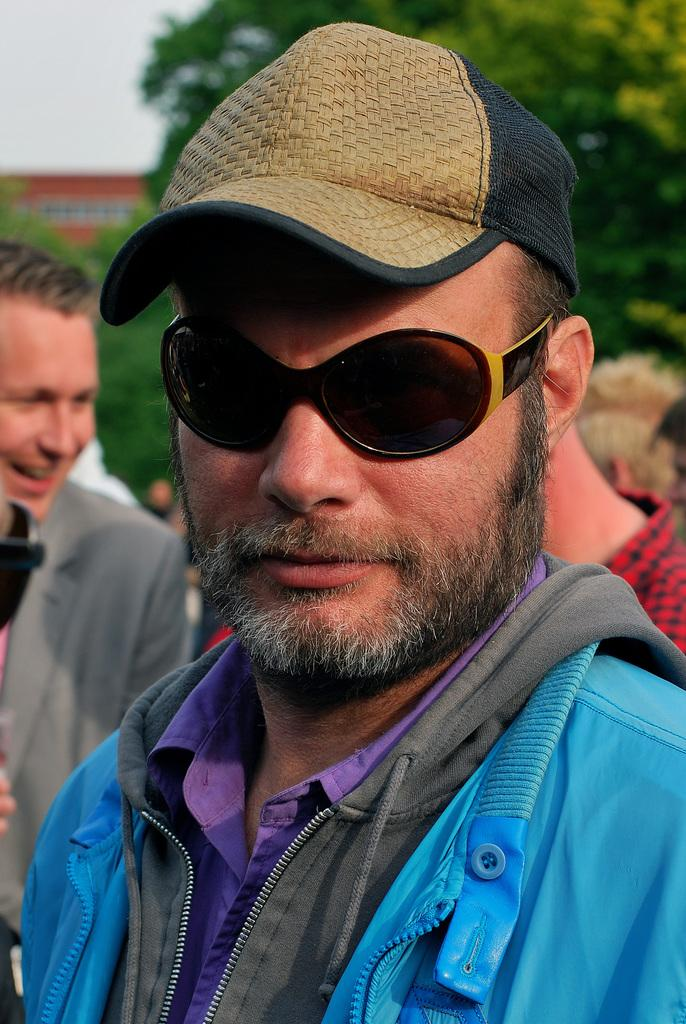Hat: (102, 16, 580, 331)
